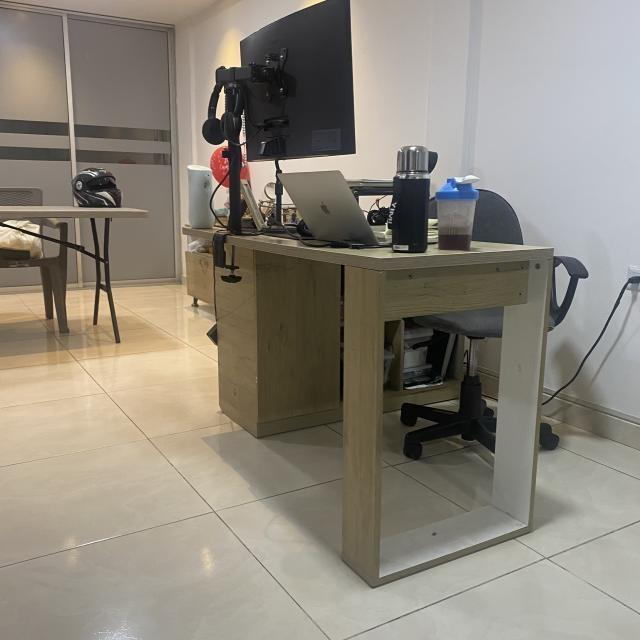obstacle: (169, 134, 586, 592), (0, 160, 162, 345)
